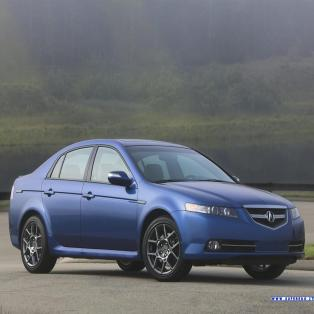Auto: (7, 136, 307, 284)
